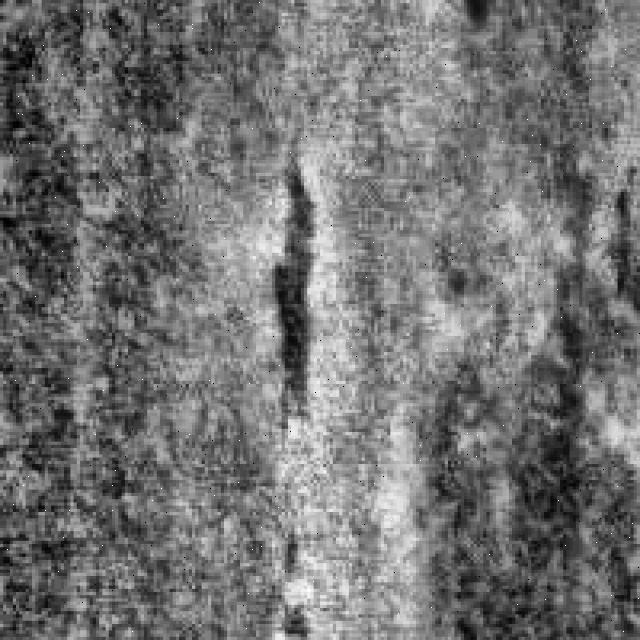Patches: (412, 247, 630, 630), (250, 144, 320, 432)
